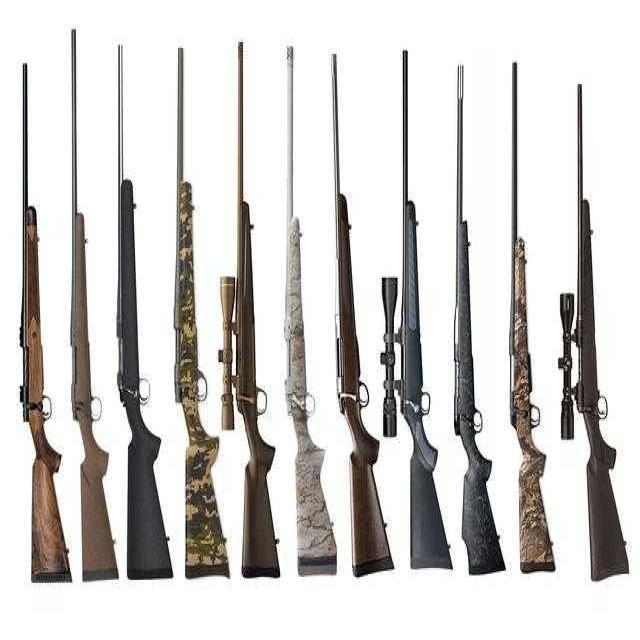heavyweapon: (159, 32, 244, 602), (551, 58, 640, 593), (312, 34, 397, 591), (378, 21, 461, 580), (262, 27, 342, 595), (57, 19, 126, 593), (495, 44, 566, 593), (107, 31, 175, 584), (221, 22, 287, 590), (446, 44, 513, 593), (12, 49, 77, 613)
